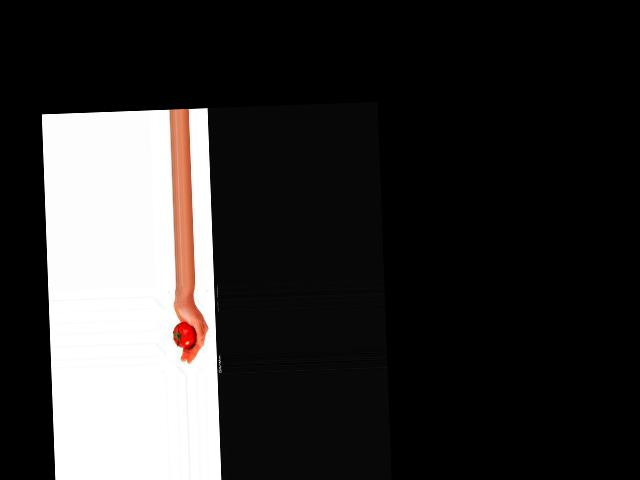tomato: (173, 320, 196, 347)
